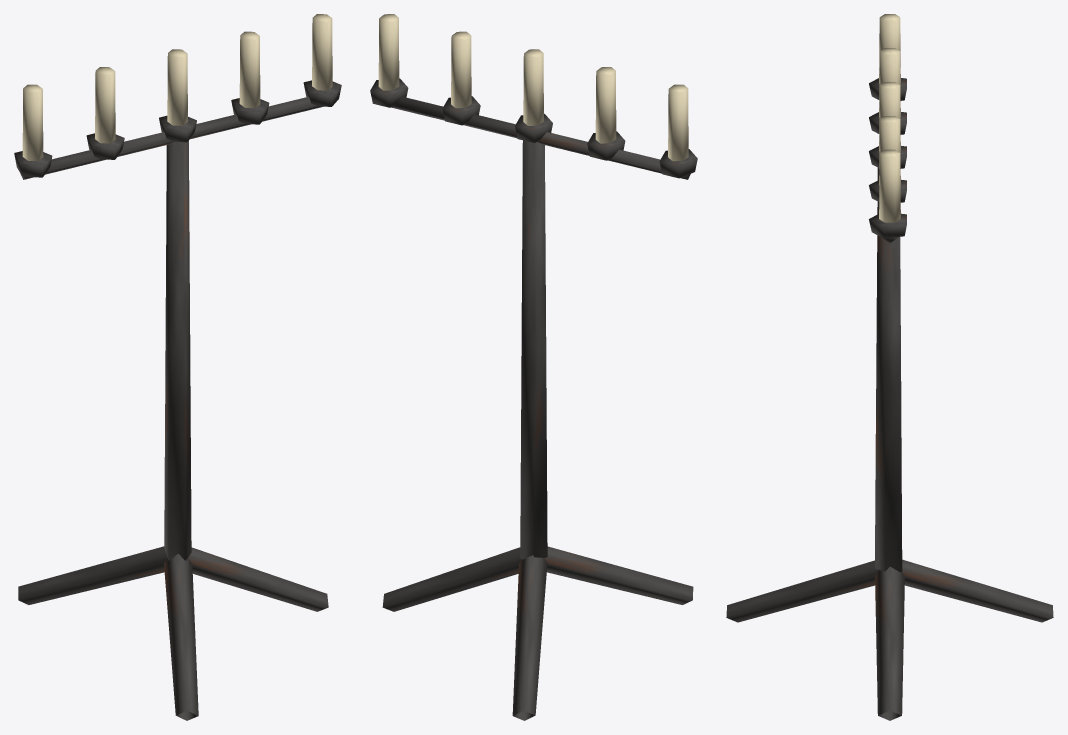
File: CandleStick_Stand_LOD1.gltf
3 renders of one model, left to right at view 1: azimuth 30°, elevation 25°; view 2: azimuth 150°, elevation 25°; view 3: azimuth 270°, elevation 25°, orthographic. The views are drawn at different scales.
Visible parts, largest first — view 1: CandleStick_Stand_LOD1; view 2: CandleStick_Stand_LOD1; view 3: CandleStick_Stand_LOD1.
Part boxes in pixels (x1,y1,x2,y2): CandleStick_Stand_LOD1: (14,14,341,720); CandleStick_Stand_LOD1: (370,14,697,720); CandleStick_Stand_LOD1: (726,14,1053,720).
Bounding box in the file's own units: 0.7362 × 1.3 × 0.6745.
2 materials, 2 textured.
